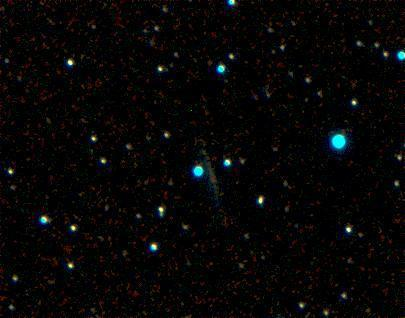star: (352, 289, 382, 318)
